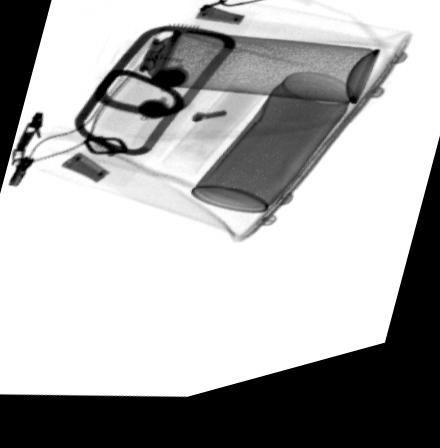Sprayer: (90, 28, 384, 126)
